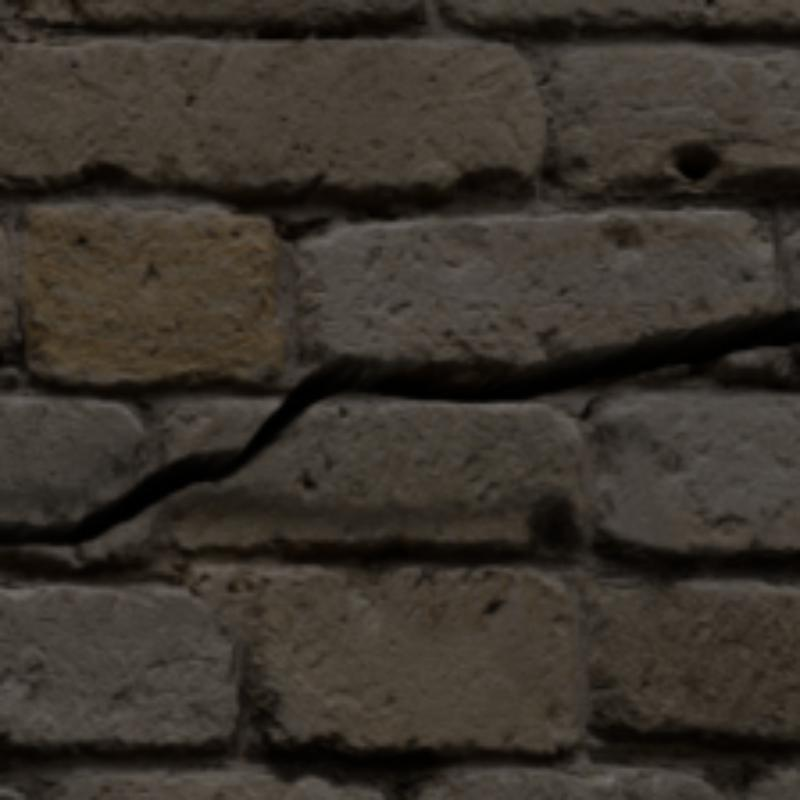pothole: (0, 307, 796, 543)
